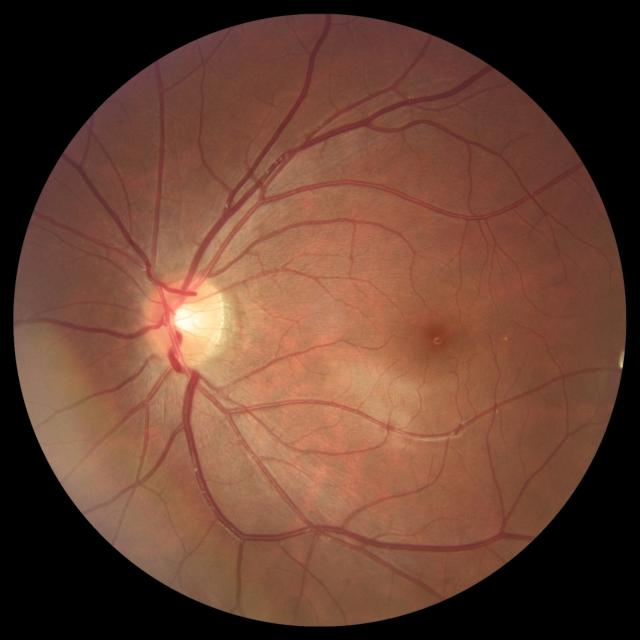OC: (169, 300, 204, 336)
OD: (144, 274, 228, 368)
